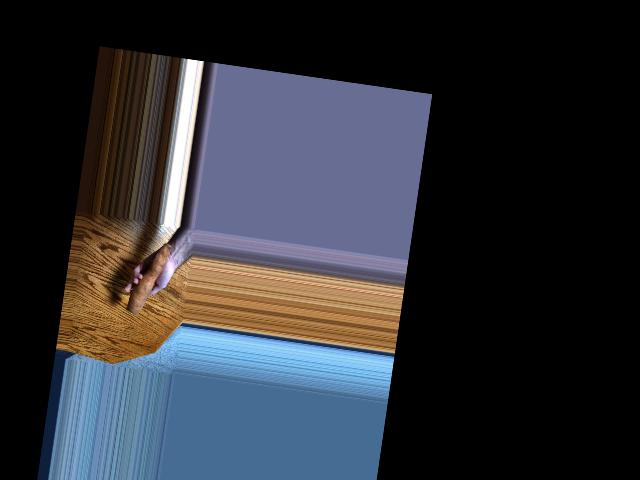sweet_potato: (124, 236, 173, 318)
